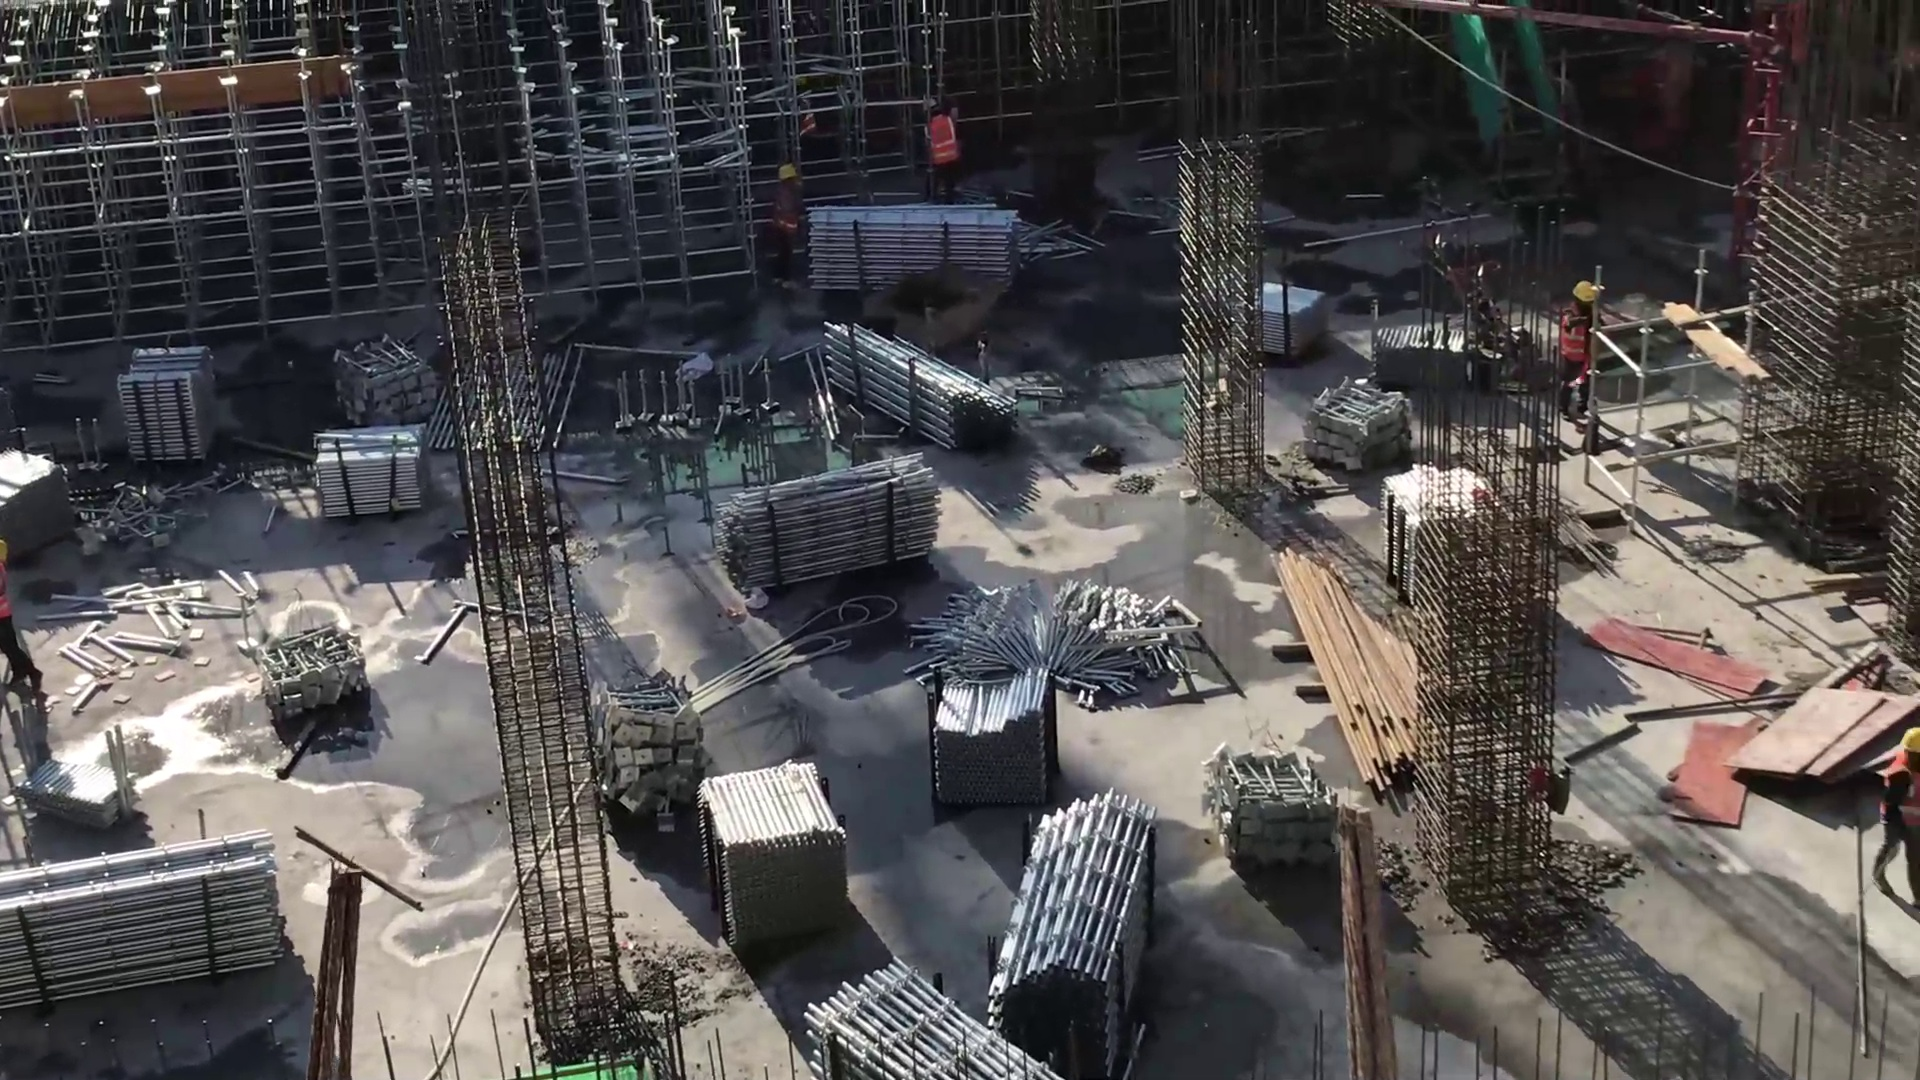helmet: (1573, 280, 1597, 301)
person: (911, 87, 970, 210), (762, 146, 816, 274), (1562, 277, 1606, 433)
scaffold: (1, 835, 289, 990), (998, 799, 1143, 1073), (812, 958, 1063, 1080), (709, 457, 951, 583), (701, 754, 852, 942), (828, 308, 1020, 445), (820, 193, 1027, 295), (927, 669, 1048, 797), (119, 343, 223, 466), (312, 431, 424, 512)
vest: (1563, 306, 1594, 365), (924, 119, 959, 166)
wood: (1290, 551, 1428, 801)
